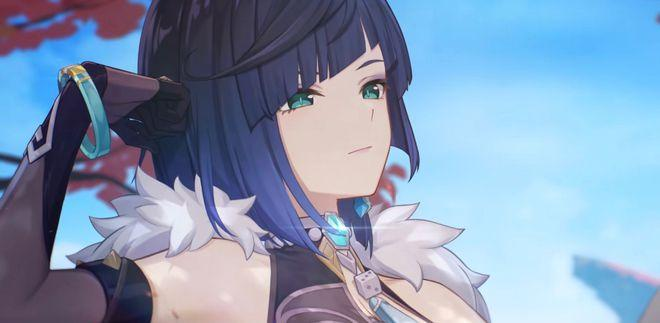夜兰: (1, 1, 491, 323)
